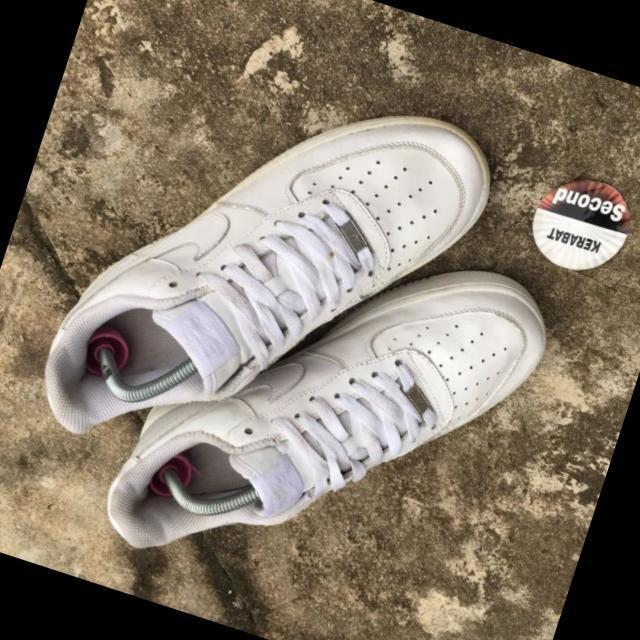nike original air force: (18, 25, 510, 535), (96, 172, 573, 640)
